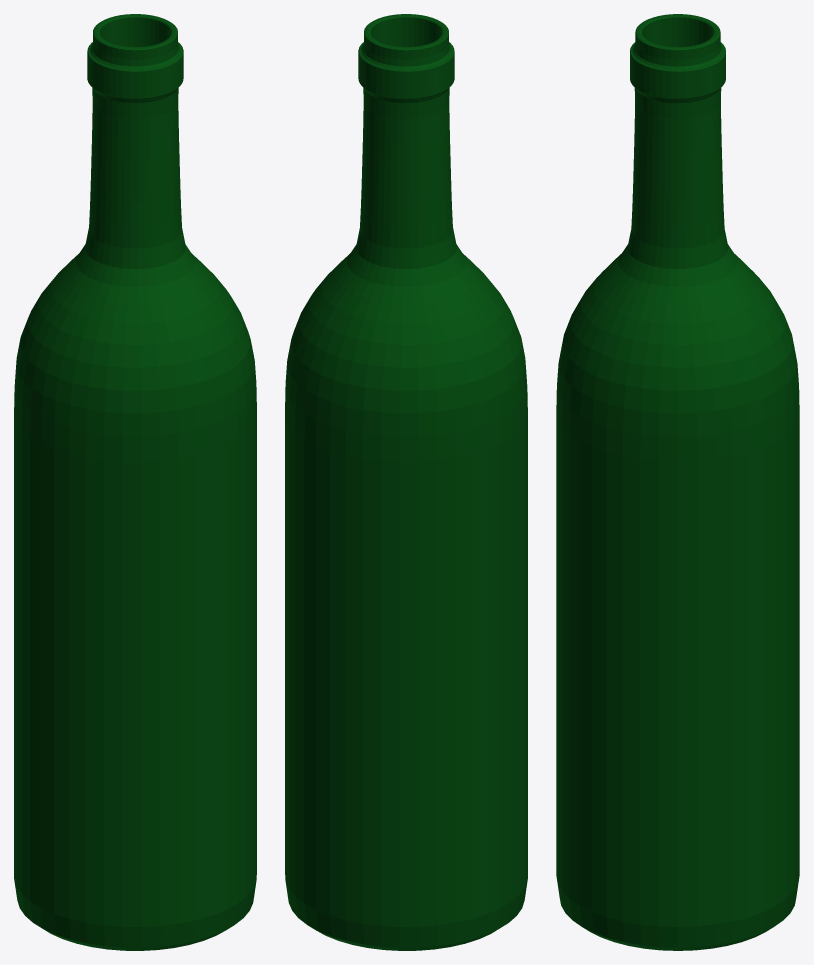
The model's file is olive_oil_2.glb.
The picture shows the model from 3 angles, left to right: view 1: azimuth 30°, elevation 25°; view 2: azimuth 150°, elevation 25°; view 3: azimuth 270°, elevation 25°; orthographic projection.
Visible parts, largest first — view 1: world; view 2: world; view 3: world.
Part boxes in pixels (box(x1,y1,x2,y2)): world: box(14, 14, 256, 950); world: box(285, 14, 527, 950); world: box(556, 14, 799, 950).
Size of the model in its own units: 0.083 by 0.3289 by 0.083.
